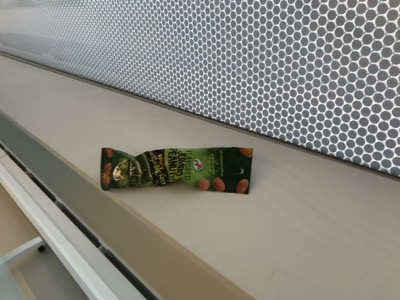peanut: (99, 144, 253, 195)
